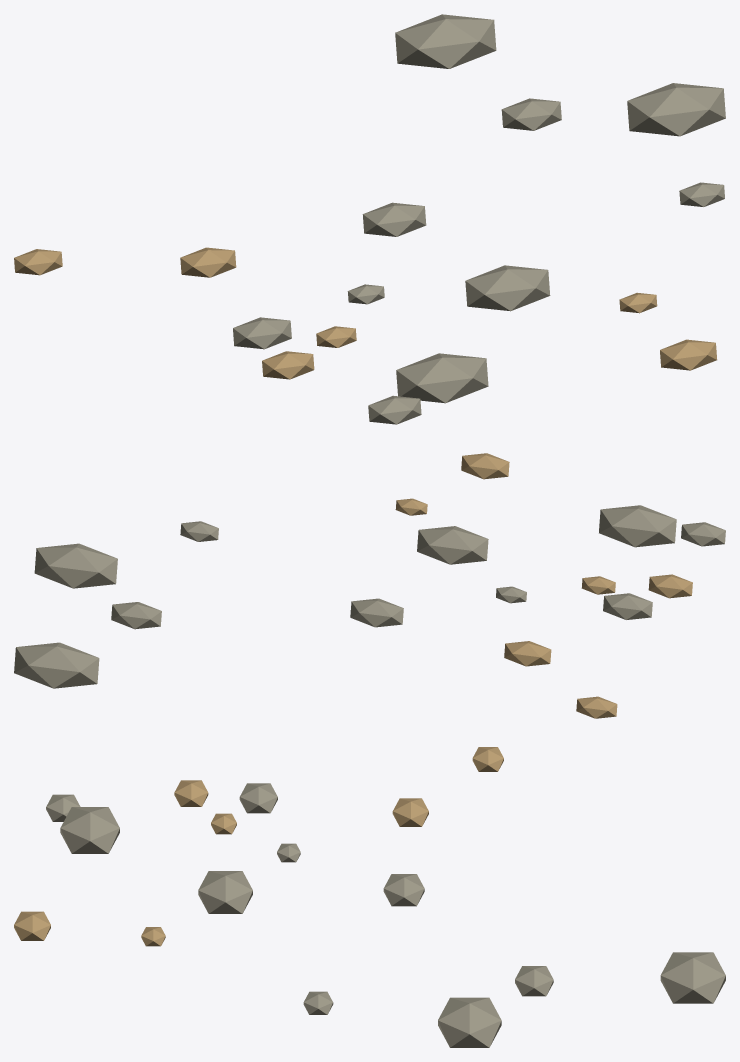
Rendered from terrain_pebble_patch.glb.
3 views of the same model, one above another, from view 1: azimuth 30°, elevation 25°; view 2: azimuth 150°, elevation 25°; view 3: azimuth 270°, elevation 25° (orthographic). The views are drawn at different scales.
Visible parts, largest first — view 1: terrain_pebble_patch; view 2: terrain_pebble_patch; view 3: terrain_pebble_patch.
Part boxes in pixels (x1,y1,x2,y2): terrain_pebble_patch: (14,14,725,424); terrain_pebble_patch: (14,453,725,718); terrain_pebble_patch: (14,747,725,1047).
Size of the model in its own units: 1.28 by 0.0791 by 1.28.
